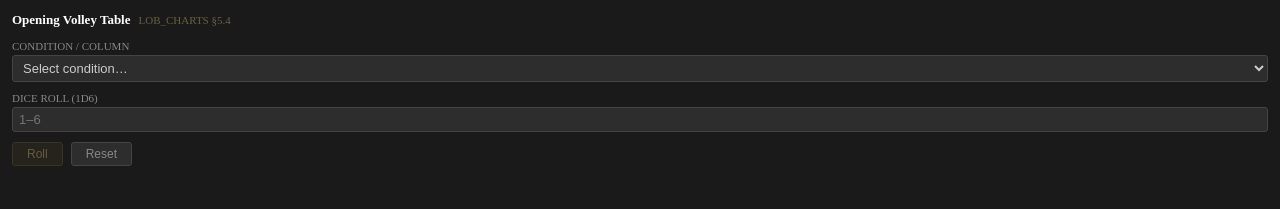
Test: OpeningVolleyPanel › displays error on fetch failure
The width and height of the screenshot is (1280, 209).
Select "Charge" in the dropdown labelled "Condition / Column" at coordinates (640, 68), box 12,55 -> 1268,82
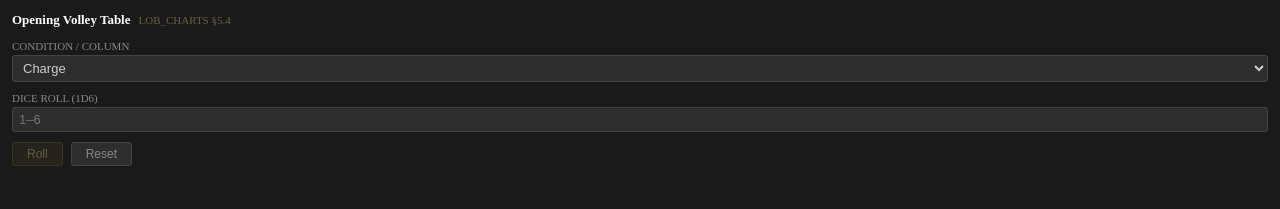
Type "5" into the number field labelled "Dice Roll (1d6)" at coordinates (640, 120), box 12,107 -> 1268,132
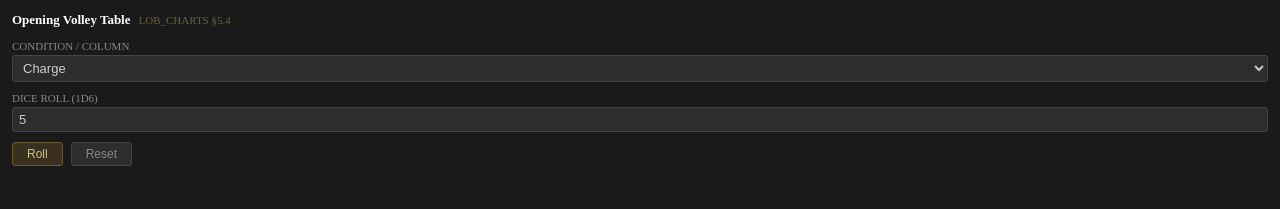
Click the button "Roll" at coordinates (37, 154), box 12,142 -> 63,166
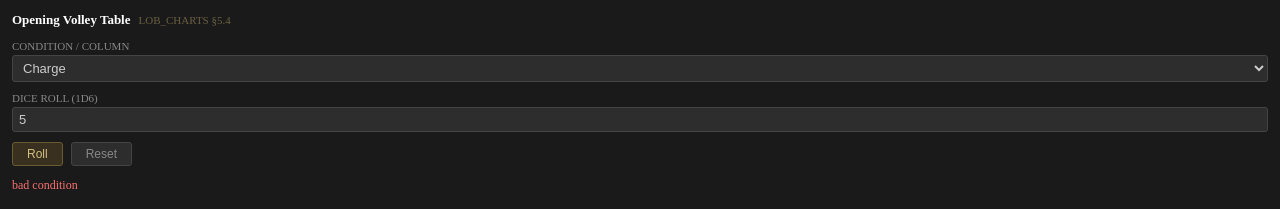
Now the text "bad condition" is shown, box 12,178 -> 78,192
